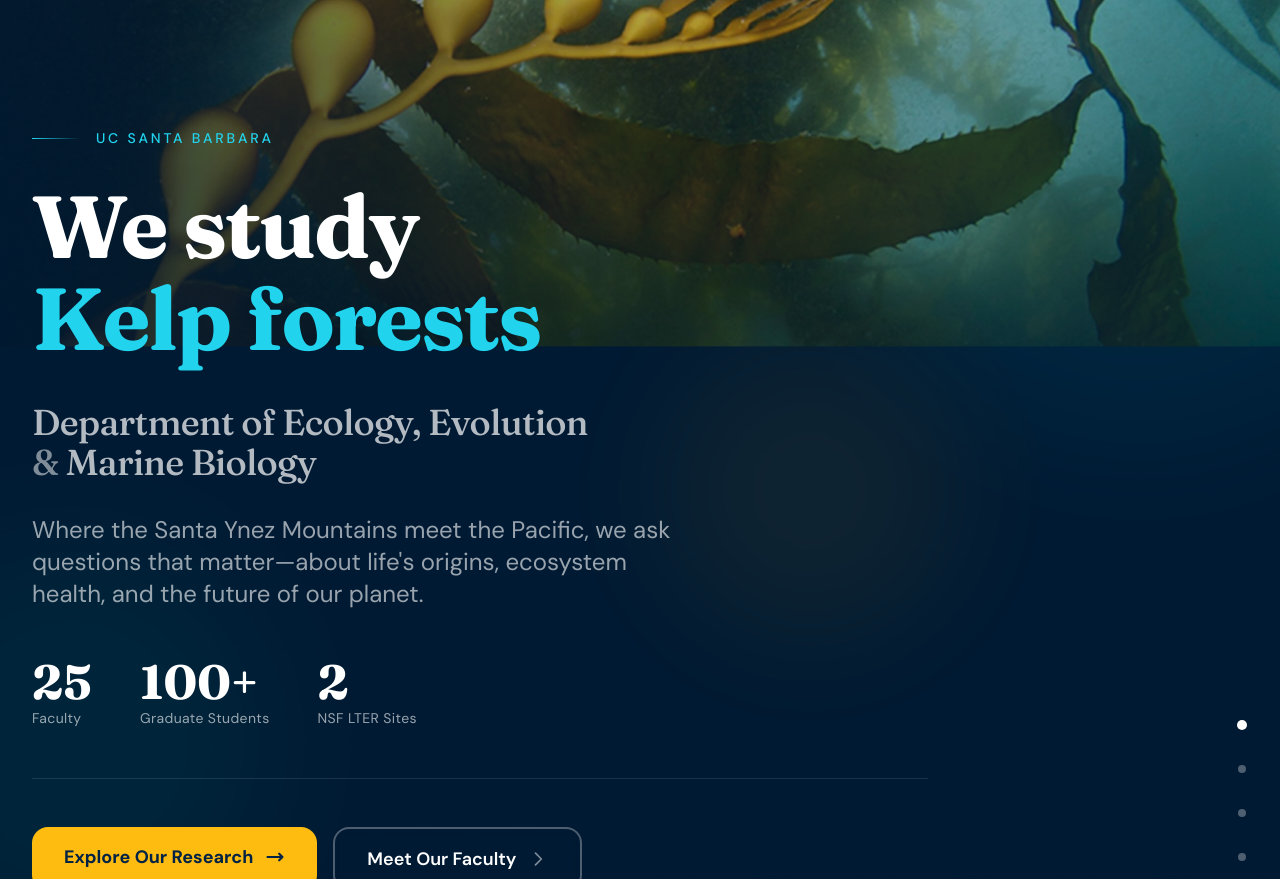
Scenario: HeroSection Component › Carousel Navigation › changes slide when indicator is clicked
The width and height of the screenshot is (1280, 879).
Expected: the text "Kelp forests" is shown, [32,272,540,378]
# Click the second indicator
Step 1. Click the tab named "Slide 2: Coral reefs" → (1242, 769), box [1220,747,1264,791]
Wait 500 ms
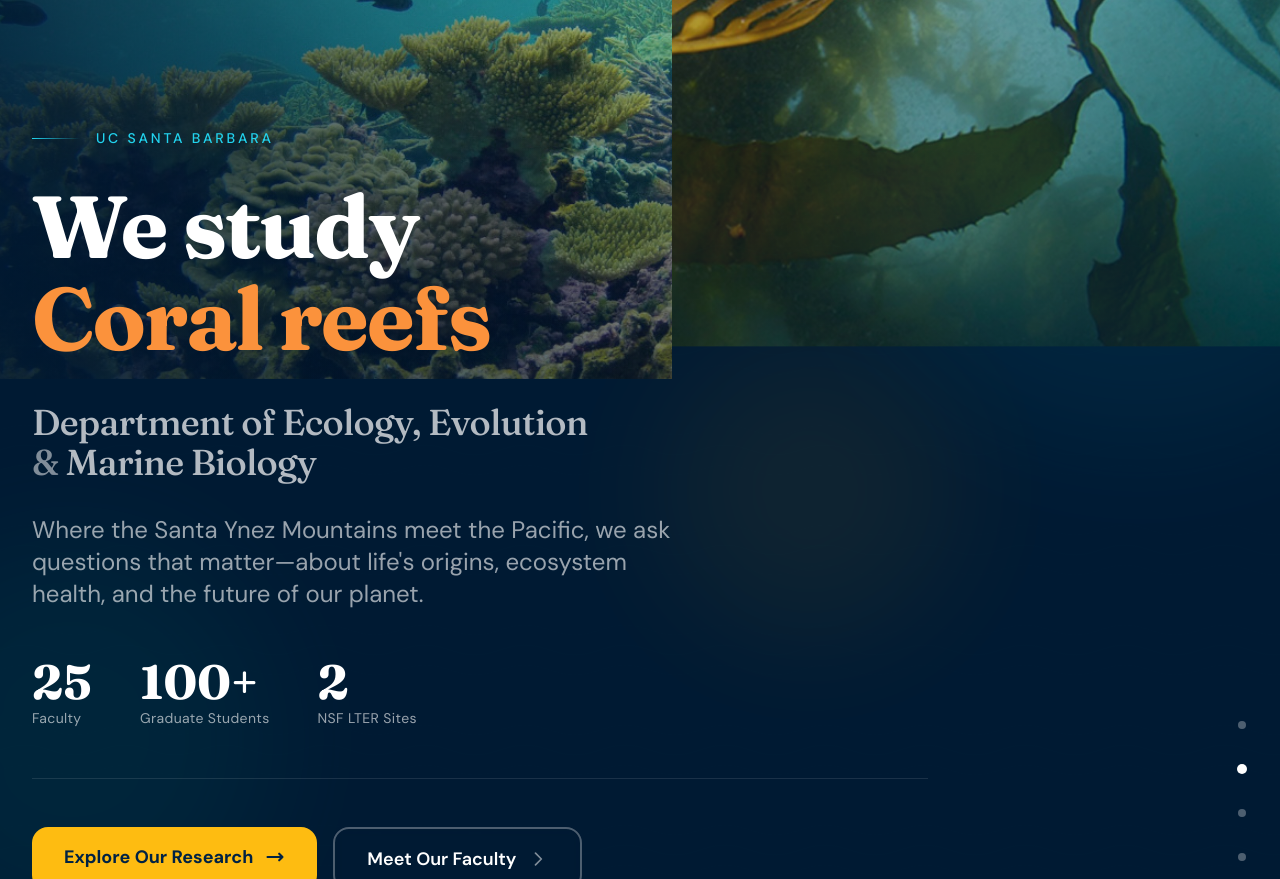
Expected: the text "Coral reefs" is shown, [32,272,490,378]
